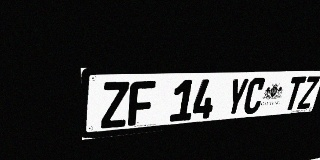1: (170, 79, 197, 122)
4: (191, 79, 218, 120)
C: (242, 77, 267, 115)
F: (128, 81, 156, 126)
T: (282, 76, 307, 111)
Y: (224, 78, 250, 116)
Z: (101, 81, 129, 129), (297, 76, 320, 109)
